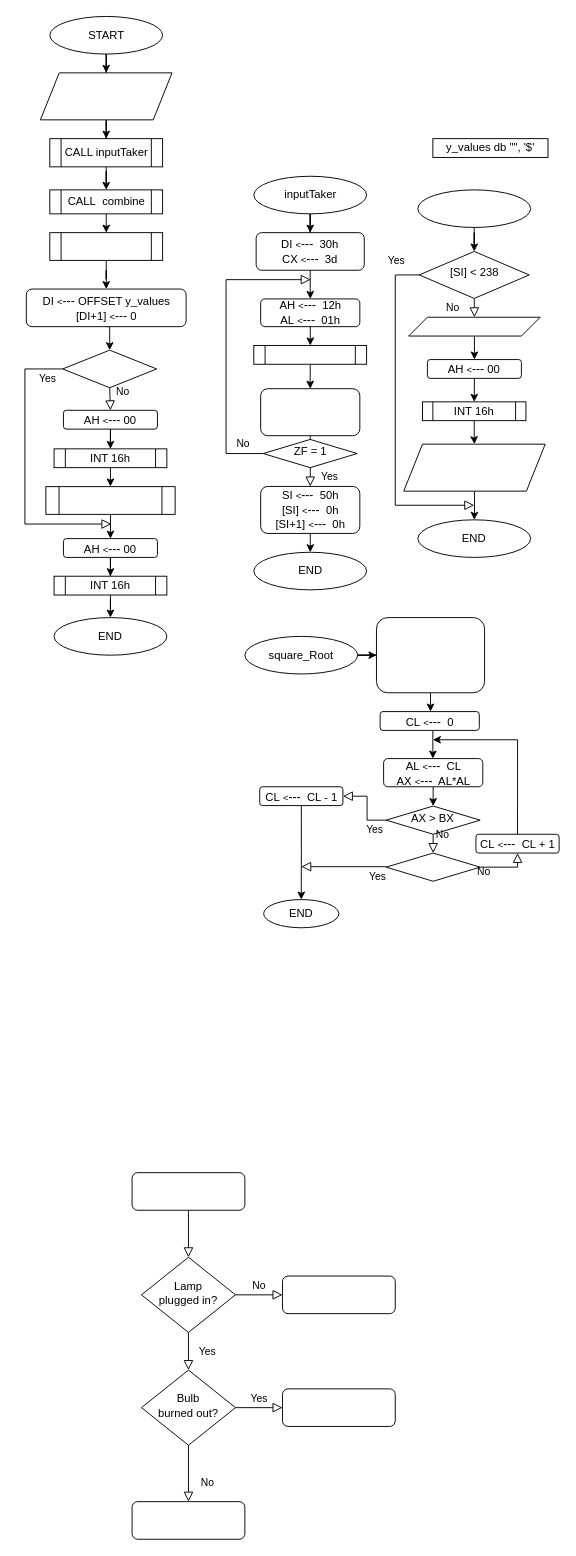
Image size: 576x1556. Some labels were removed from this diagram. Each missing label, with the box of its shape:
[DI] < --- AL DI < --- DI + 1 CX < --- CX - 1: (260, 388, 360, 436)
[SI] > 238: (62, 349, 157, 388)
AX = BX: (385, 852, 480, 881)
BX < --- [DI+2] AL < --- [SI] AX < --- AL*AL BX < --- BX - AX: (376, 617, 485, 693)
CALL all_Y_values: (45, 486, 175, 514)
CALL ifBig: (49, 232, 163, 260)
Display newLine: (408, 316, 540, 336)
Display newLine Display newLine Display wrongInput: (403, 443, 545, 491)
Dsiplay string Display questionC Display question: (39, 72, 172, 120)
ifBig: (417, 189, 531, 227)
INT 21h: (253, 345, 367, 364)
Lamp doesn't work: (131, 1172, 245, 1210)
Plug in lamp: (282, 1275, 395, 1314)
Repair Lamp: (131, 1501, 245, 1539)
Replace Bulb: (282, 1388, 395, 1426)
